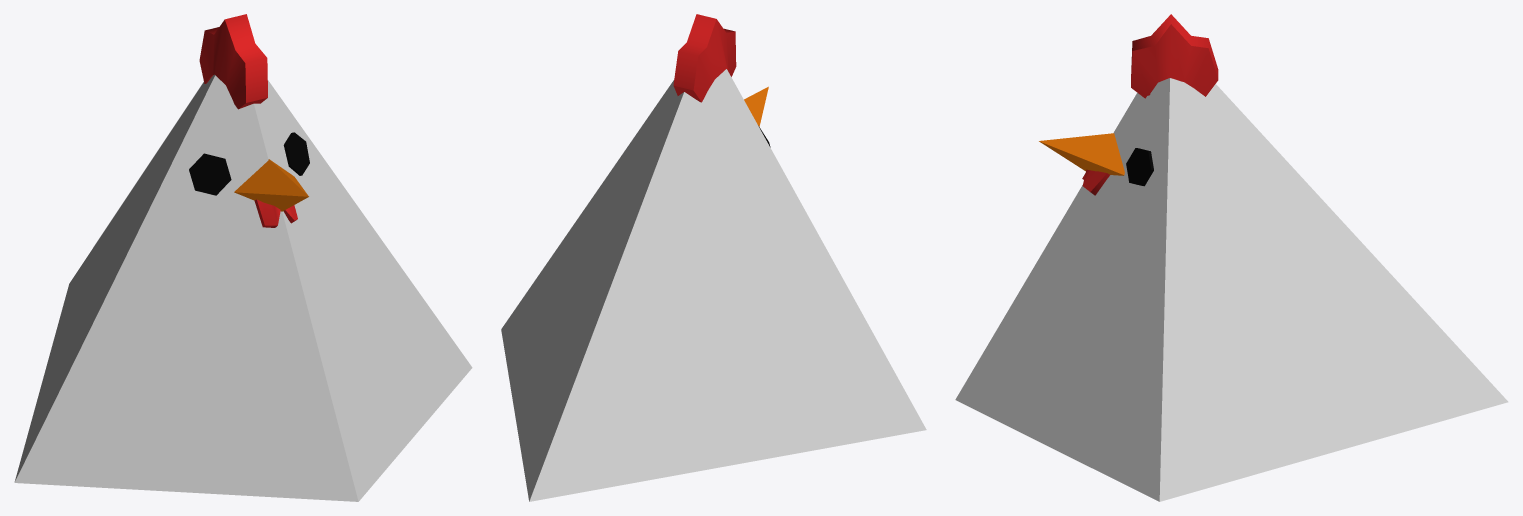
The model's file is Gudrun_abstract_fix.fbx.
The picture shows the model from 3 angles, left to right: view 1: azimuth 30°, elevation 25°; view 2: azimuth 150°, elevation 25°; view 3: azimuth 270°, elevation 25°; orthographic projection. The views are drawn at different scales.
Parts seen in each view (by area): view 1: Gudrun_Abstract; view 2: Gudrun_Abstract; view 3: Gudrun_Abstract.
Boxes of the visible parts, box(x1,y1,x2,y2) form: Gudrun_Abstract: box(14, 14, 472, 501); Gudrun_Abstract: box(501, 14, 926, 501); Gudrun_Abstract: box(955, 14, 1508, 501).
Bounding box in the file's own units: 126 × 105 × 140.
